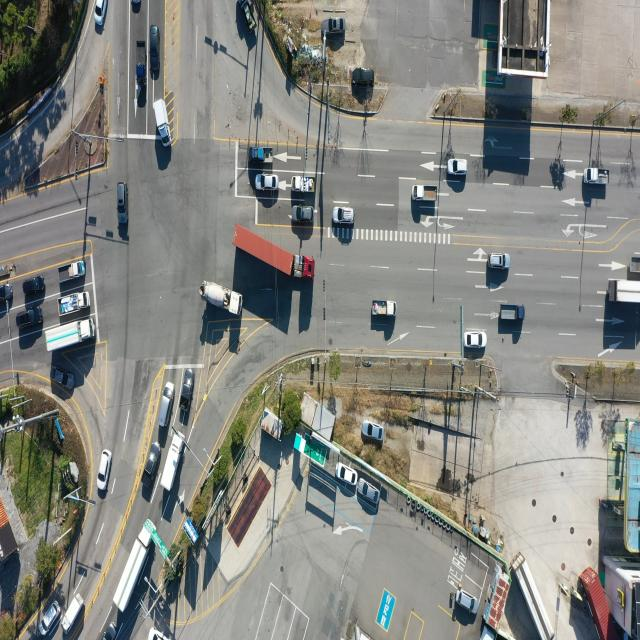car: (160, 380, 176, 428), (41, 602, 62, 638), (179, 373, 193, 426), (50, 363, 76, 391), (97, 447, 112, 490), (15, 308, 42, 330), (458, 587, 480, 613), (358, 480, 379, 506), (144, 442, 159, 478), (337, 462, 358, 485), (322, 17, 345, 38), (151, 27, 160, 76), (24, 276, 46, 296), (362, 421, 384, 441), (116, 182, 126, 224), (463, 332, 486, 350), (352, 68, 375, 86), (448, 159, 469, 176), (335, 207, 356, 224), (258, 174, 280, 190), (149, 625, 172, 640), (95, 0, 108, 25), (490, 252, 510, 268), (292, 206, 312, 222), (0, 283, 13, 303), (102, 622, 116, 640)
large_truck: (233, 225, 315, 282)
medium_truck: (115, 518, 157, 614), (518, 550, 558, 638), (46, 318, 97, 355), (158, 432, 184, 495), (201, 281, 242, 319), (609, 278, 640, 304)
small_truck: (62, 590, 85, 632), (153, 96, 171, 144), (57, 261, 87, 285), (61, 290, 91, 314), (238, 0, 258, 34), (136, 42, 148, 88), (584, 167, 611, 186), (290, 178, 314, 198), (370, 298, 394, 316), (413, 184, 438, 201), (499, 305, 524, 322), (249, 146, 273, 163), (482, 624, 499, 640), (629, 258, 640, 276)
